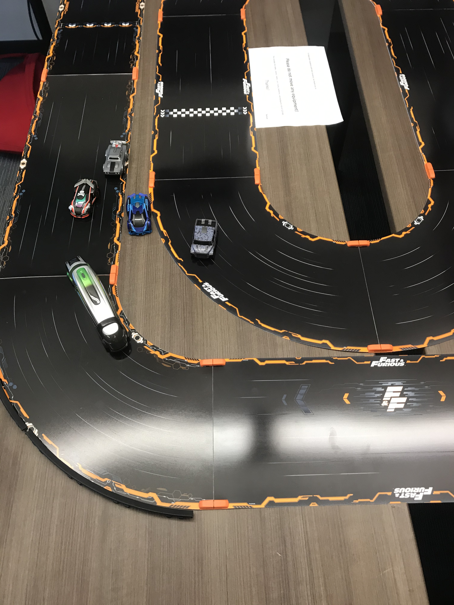Charger: (101, 136, 129, 176)
Finish Line: (160, 102, 250, 119)
Freewheel: (63, 252, 126, 344)
MXT: (190, 215, 219, 260)
Shock: (124, 192, 154, 236)
Skull: (64, 177, 98, 219)
